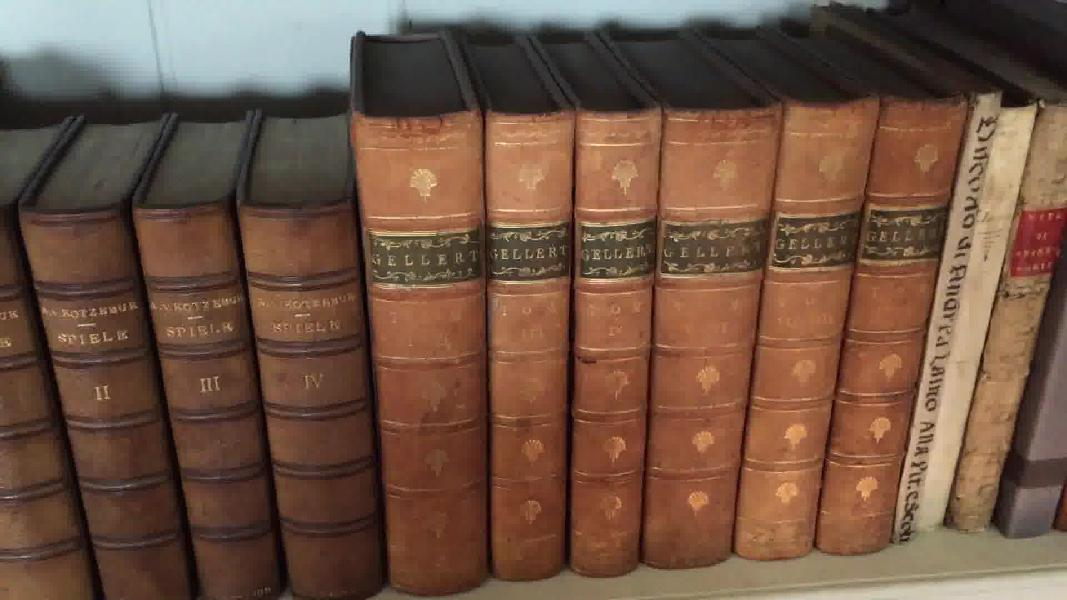Aa6-18_23: (359, 98, 951, 594)
Aa6-24: (886, 89, 1008, 554)
Aa6-25: (915, 75, 1012, 536)
Aa6-26: (953, 73, 1065, 540)
